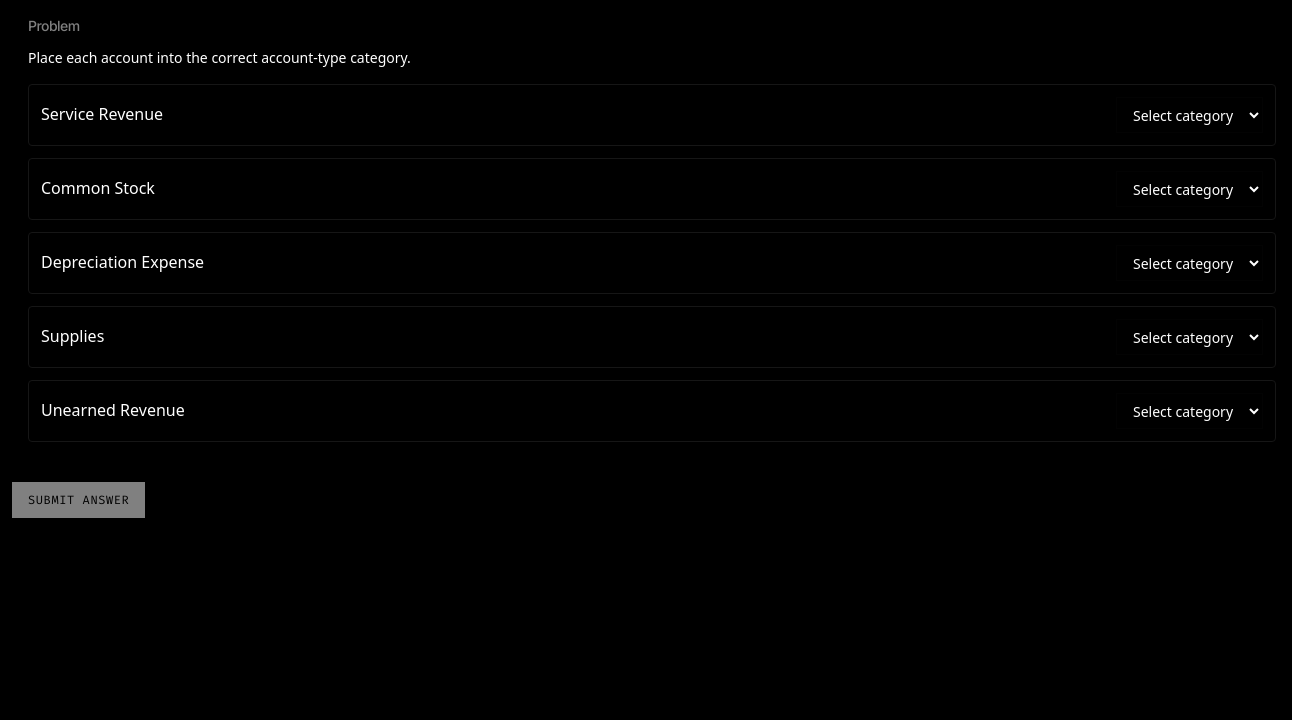
Test case: ClassificationInput › hides submit button after grading and shows result
The image size is (1292, 720).
Select "Revenue" in the dropdown in the row of "Service Revenue": [1190, 115] box [1116, 97, 1263, 133]
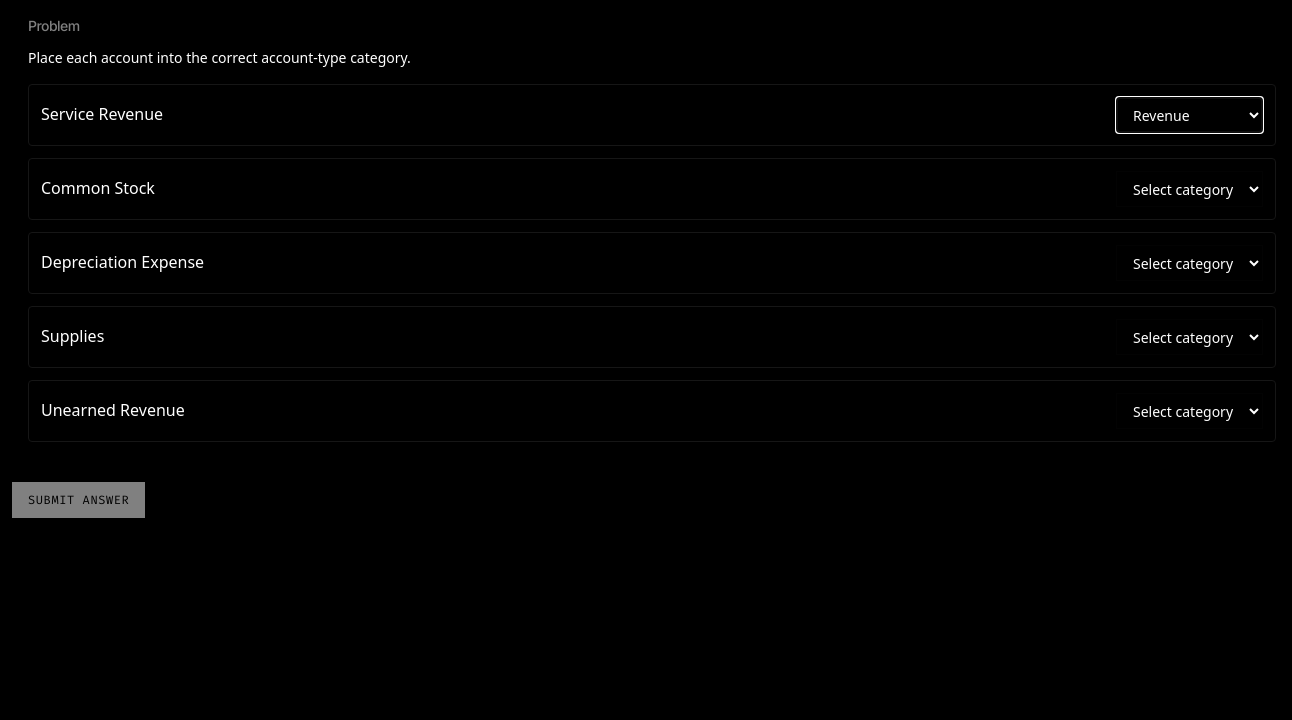
Select "Equity" in the dropdown in the row of "Common Stock": [1190, 189] box [1116, 171, 1263, 207]
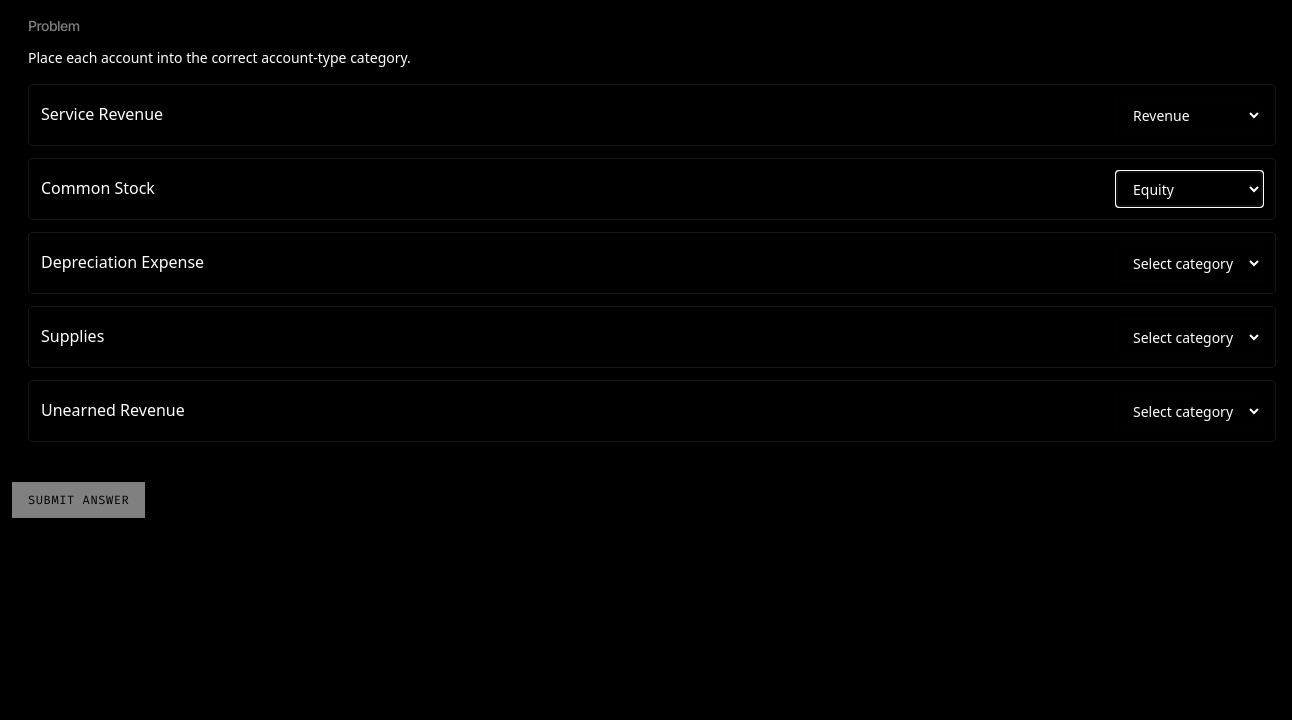
Select "Expenses" in the dropdown in the row of "Depreciation Expense": [1190, 263] box [1116, 245, 1263, 281]
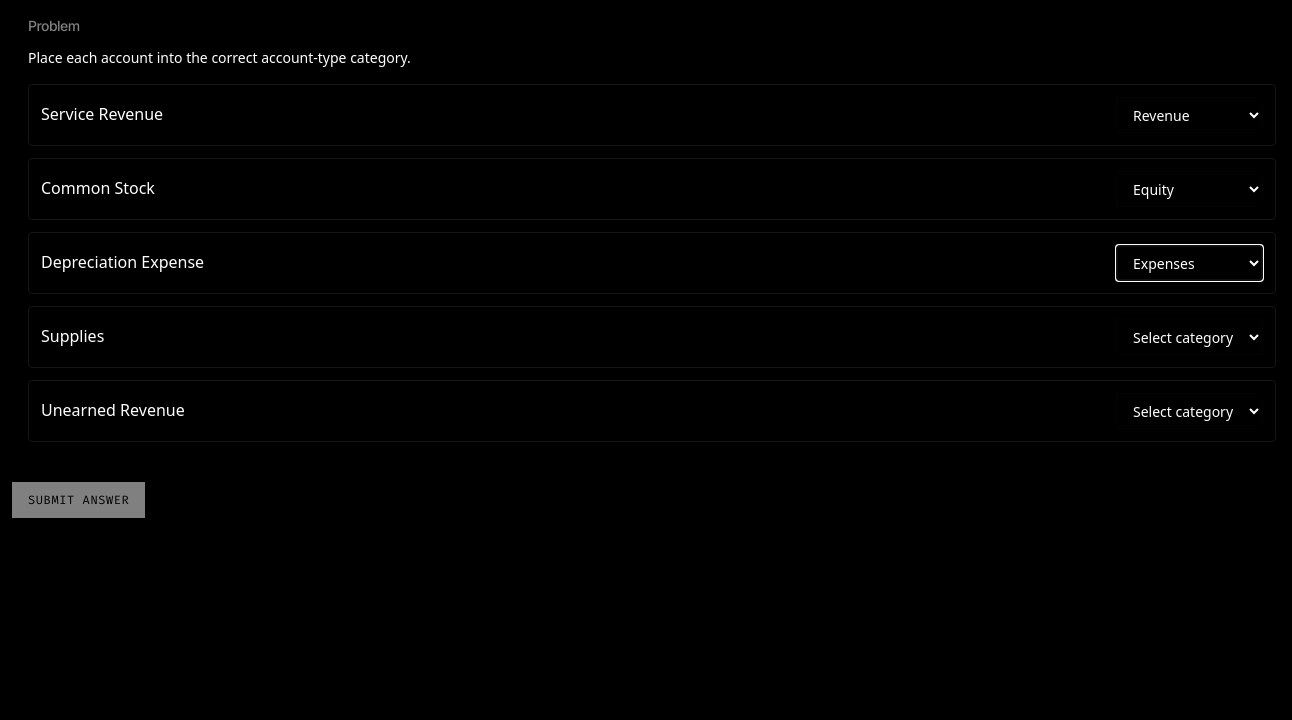
Select "Assets" in the dropdown in the row of "Supplies": [1190, 337] box [1116, 319, 1263, 355]
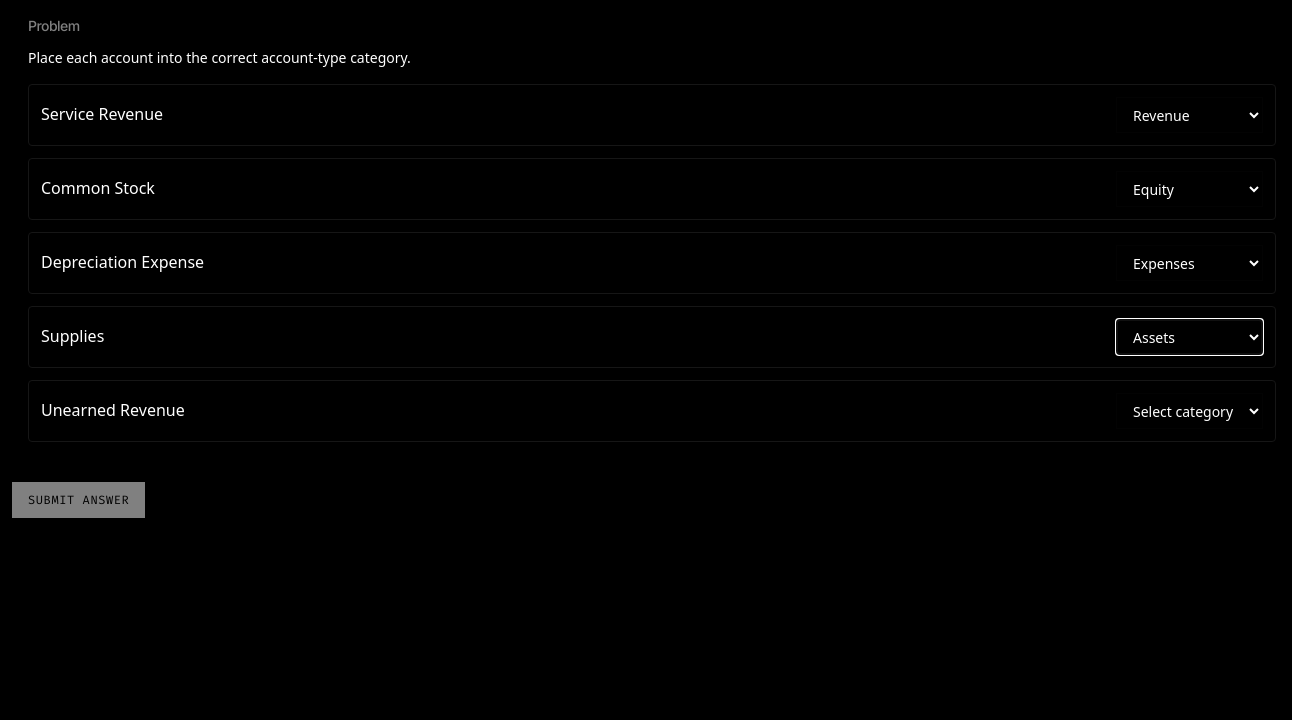
Select "Liabilities" in the dropdown in the row of "Unearned Revenue": [1190, 411] box [1116, 393, 1263, 429]
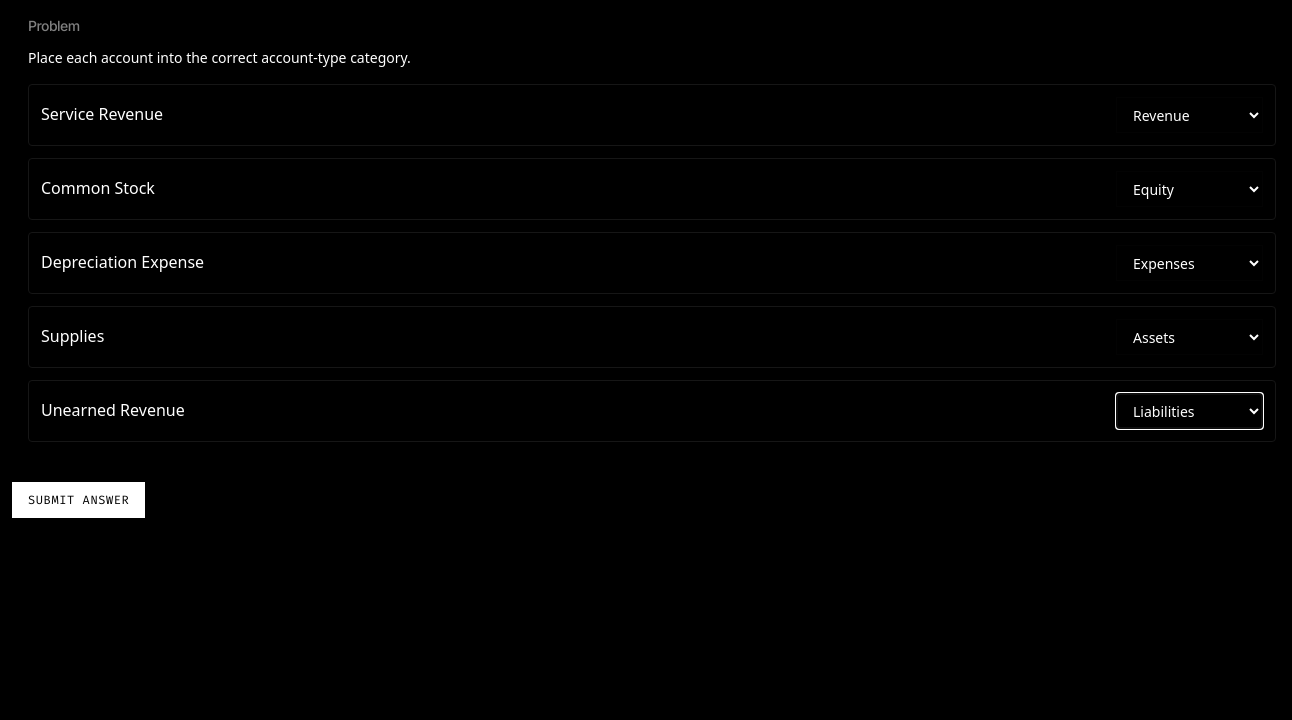
Click the button "Submit Answer": [79, 500] box [12, 482, 145, 518]
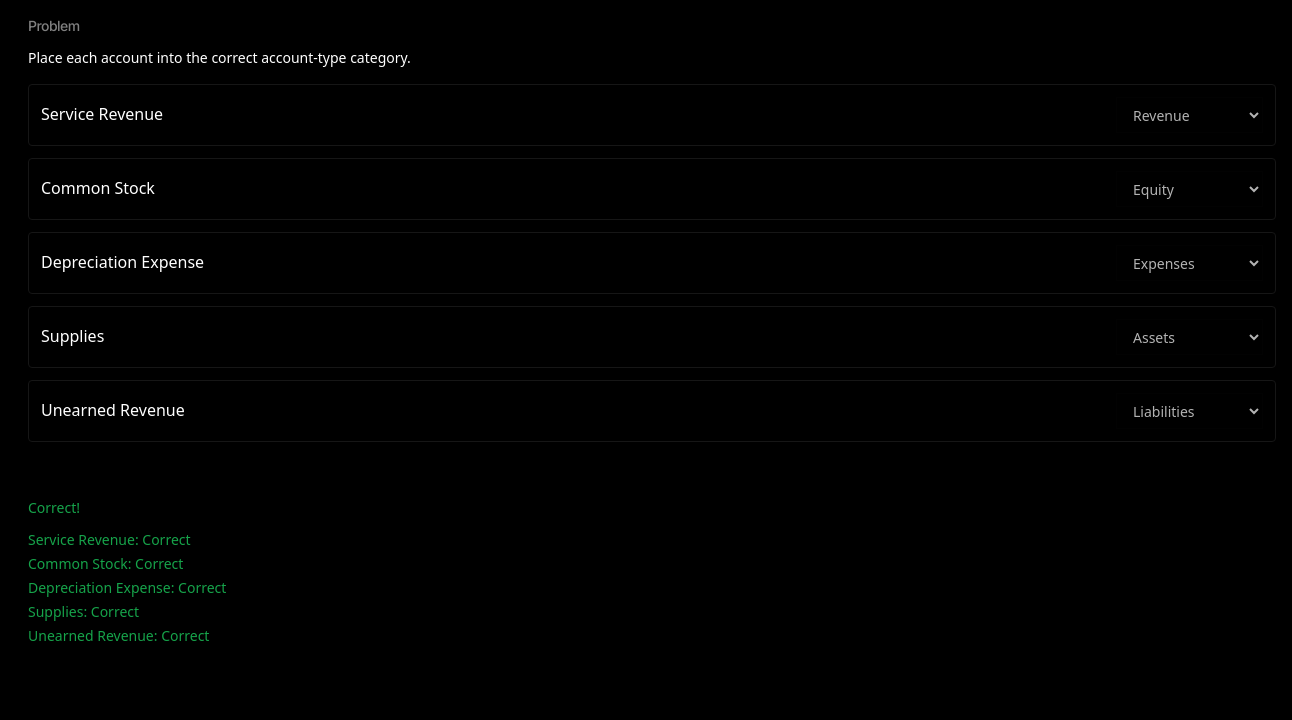
Expected: the button "Submit Answer" is gone
Expected: the text "Correct!" is shown, [28, 498, 80, 517]
